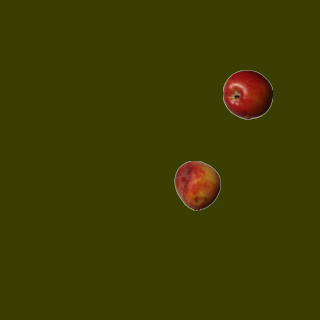Apple Braeburn: (222, 69, 272, 119)
Peach: (172, 160, 222, 210)
